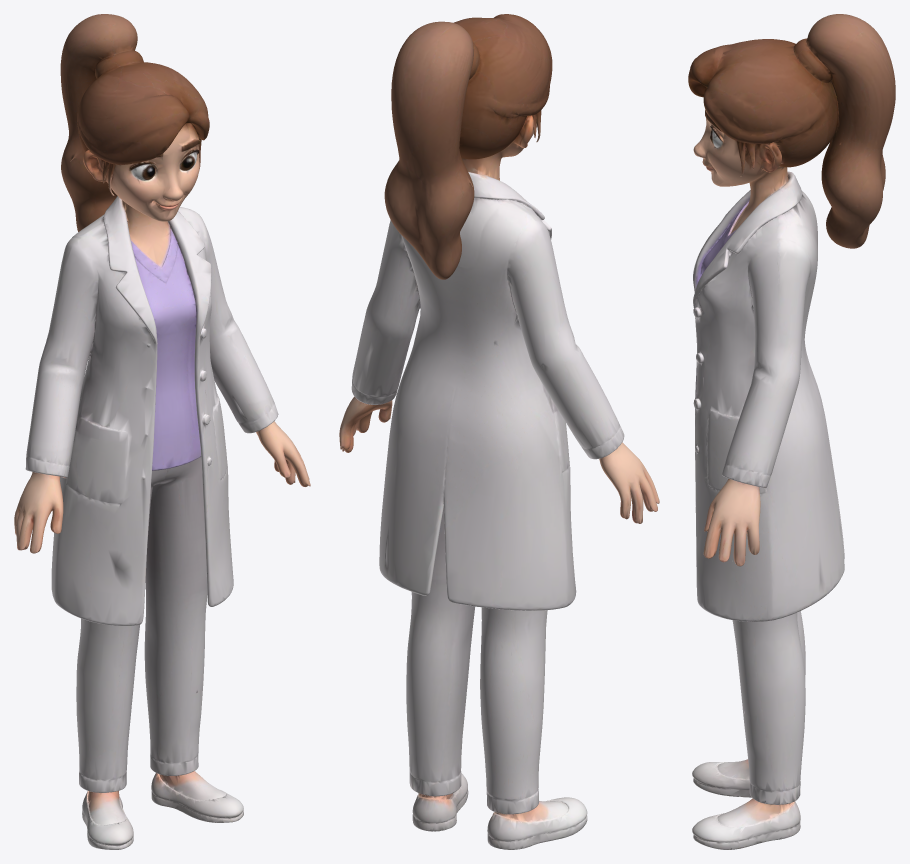
File: atendente_gondola.glb
3 views of the same model, side by side, from view 1: azimuth 30°, elevation 25°; view 2: azimuth 150°, elevation 25°; view 3: azimuth 270°, elevation 25° (orthographic). The views are drawn at different scales.
Visible parts, largest first — view 1: ground_fix; view 2: ground_fix; view 3: ground_fix.
Boxes of the visible parts, x1,y1,x2,y2 form: ground_fix: [14, 14, 310, 849]; ground_fix: [339, 14, 659, 849]; ground_fix: [688, 14, 895, 849].
Size of the model in its own units: 0.6813 by 1.73 by 0.4091.
1 material, 1 textured.
